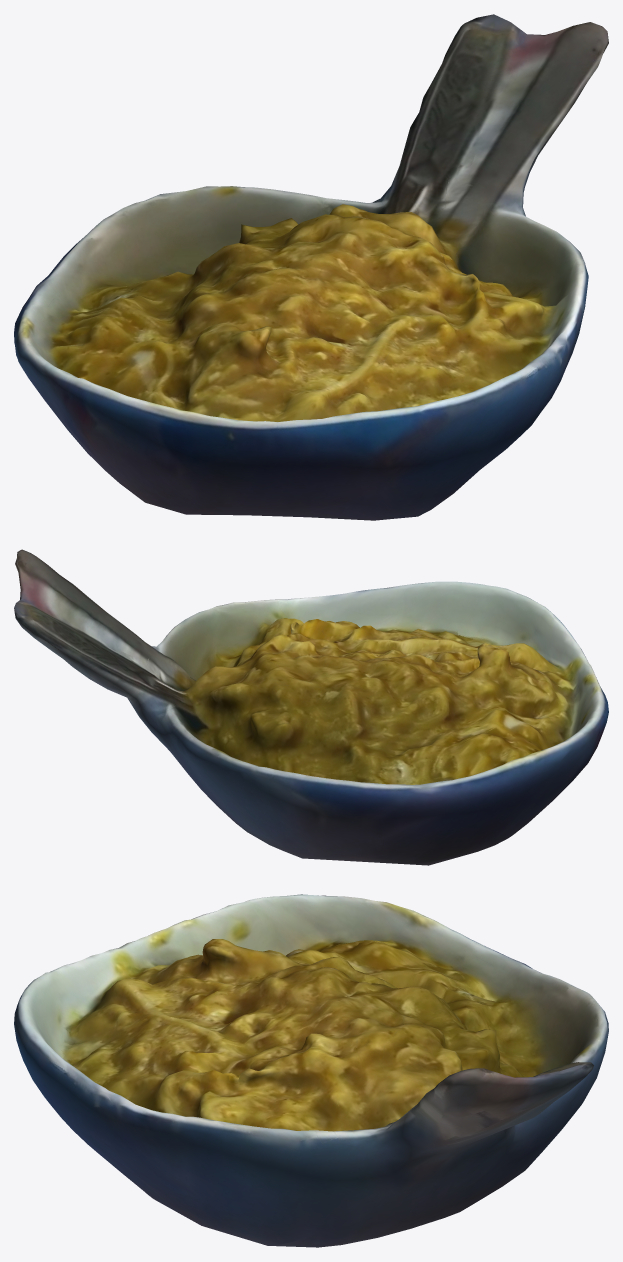
Rendered from maggi.glb.
The picture shows the model from 3 angles, top to bottom: view 1: azimuth 30°, elevation 25°; view 2: azimuth 150°, elevation 25°; view 3: azimuth 270°, elevation 25°; orthographic projection. The views are drawn at different scales.
Parts seen in each view (by area): view 1: 3DModel; view 2: 3DModel; view 3: 3DModel.
Boxes of the visible parts, x1,y1,x2,y2 form: 3DModel: (14, 14, 608, 520); 3DModel: (14, 549, 608, 865); 3DModel: (14, 894, 608, 1247).
Bounding box in the file's own units: 0.4816 × 0.2213 × 0.3937.
Materials: 1 (1 with a texture image).
